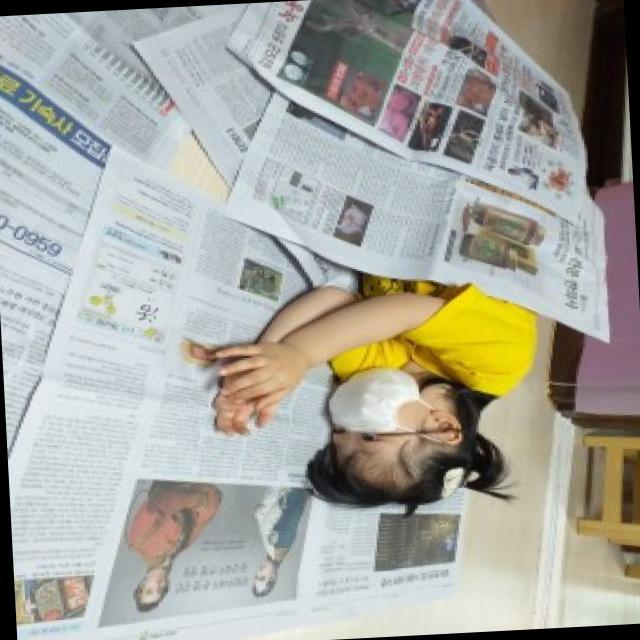reuseable_paper: (224, 0, 604, 318)
